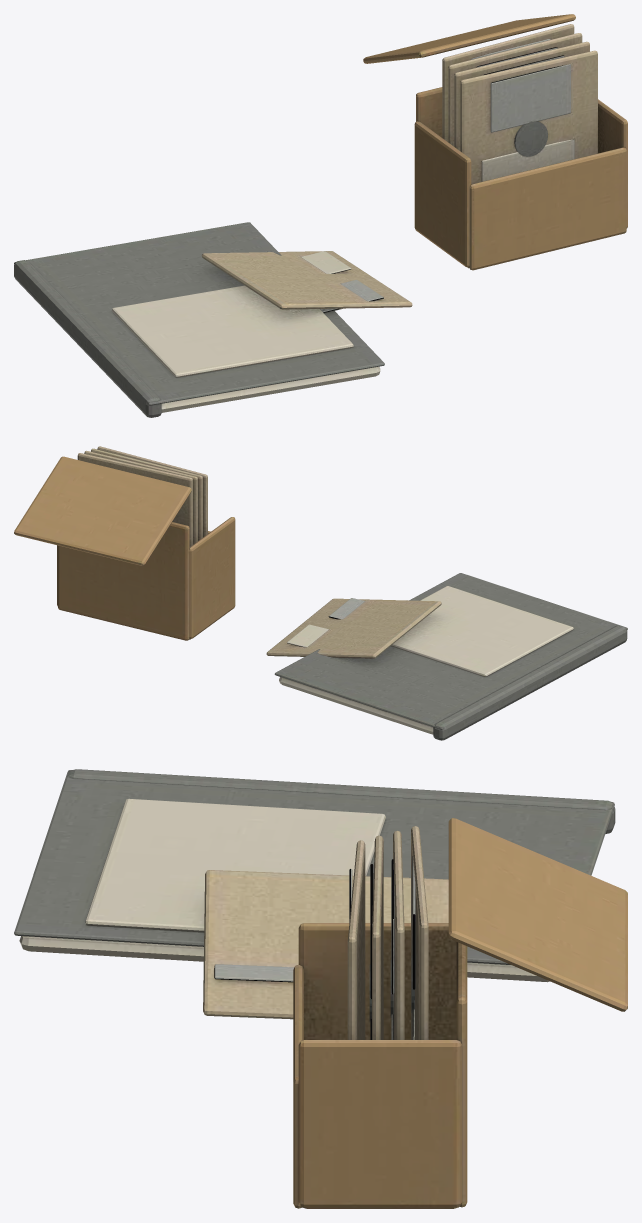
The model's file is props-desk-clutter.glb.
3 views of the same model, one above another, from view 1: azimuth 30°, elevation 25°; view 2: azimuth 150°, elevation 25°; view 3: azimuth 270°, elevation 25° (orthographic). The views are drawn at different scales.
Parts seen in each view (by area): view 1: case-baked; view 2: case-baked; view 3: case-baked.
Boxes of the visible parts, <box> form: case-baked: <box>14,14,627,417</box>; case-baked: <box>14,446,627,740</box>; case-baked: <box>14,769,627,1208</box>.
Bounding box in the file's own units: 0.3727 × 0.117 × 0.2332.
Materials: 1 (1 with a texture image).
